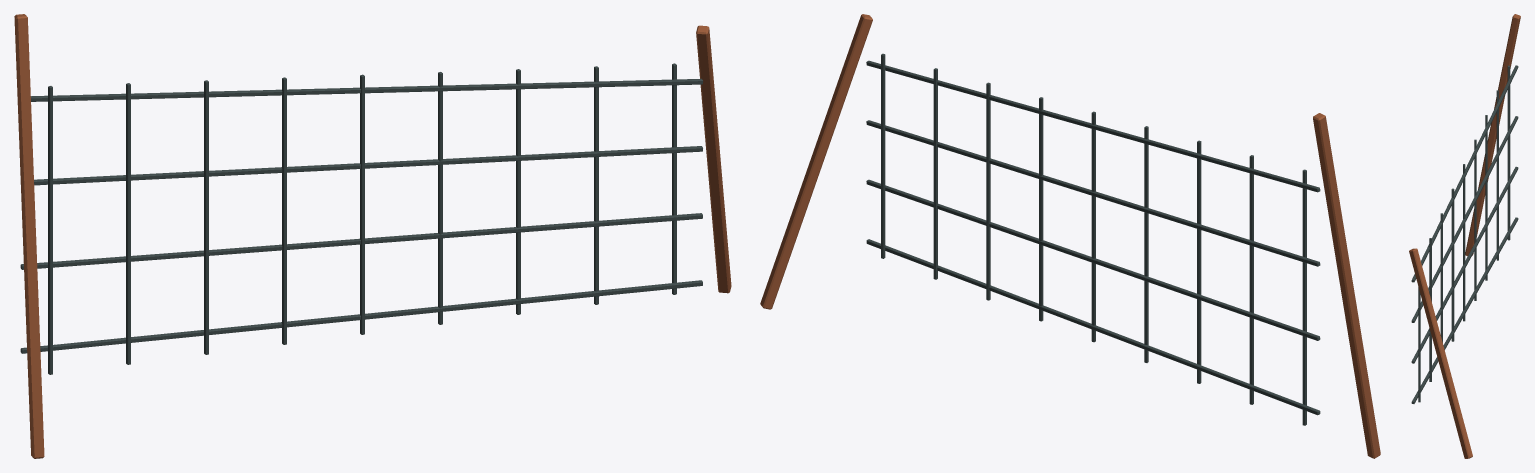
Rendered from Fence_Bent.glb.
3 views of the same model, side by side, from view 1: azimuth 30°, elevation 25°; view 2: azimuth 150°, elevation 25°; view 3: azimuth 270°, elevation 25° (orthographic). The views are drawn at different scales.
Parts seen in each view (by area): view 1: Fence_Bent; view 2: Fence_Bent; view 3: Fence_Bent.
Part boxes in pixels (x1,y1,x2,y2): Fence_Bent: (14, 14, 731, 458); Fence_Bent: (760, 14, 1380, 458); Fence_Bent: (1409, 14, 1520, 458).
Size of the model in its own units: 3.05 by 1.71 by 0.7007.
